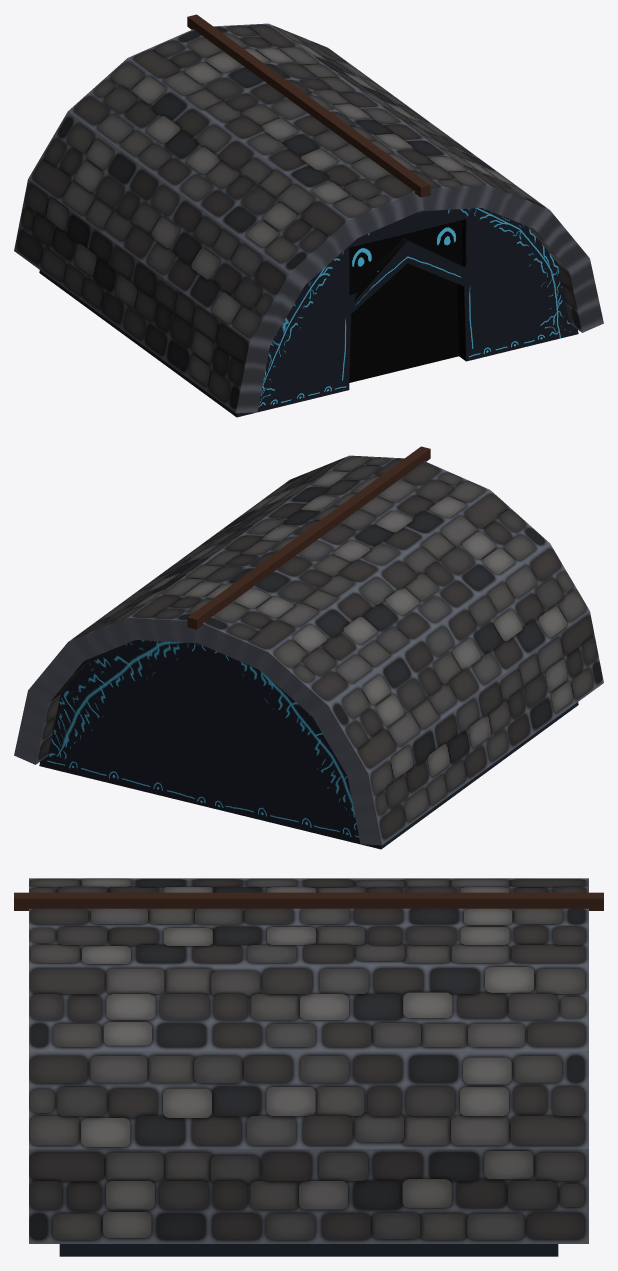
Rendered from model_TribeLeader House.fbx.
3 views of the same model, one above another, from view 1: azimuth 30°, elevation 25°; view 2: azimuth 150°, elevation 25°; view 3: azimuth 270°, elevation 25° (orthographic). The views are drawn at different scales.
Visible parts, largest first — view 1: Roof, Body, Wood; view 2: Roof, Body, Wood; view 3: Roof, Wood, Body.
Part boxes in pixels (bbox=[...]): Roof: bbox=[14, 23, 603, 413]; Body: bbox=[39, 208, 578, 417]; Wood: bbox=[187, 14, 430, 197]; Roof: bbox=[14, 455, 603, 845]; Body: bbox=[39, 640, 578, 849]; Wood: bbox=[187, 446, 430, 629]; Roof: bbox=[29, 878, 588, 1243]; Wood: bbox=[14, 892, 603, 910]; Body: bbox=[59, 1244, 558, 1256].
Size of the model in its own units: 2157 by 1133 by 2370.
Materials: 1 (1 with a texture image).
